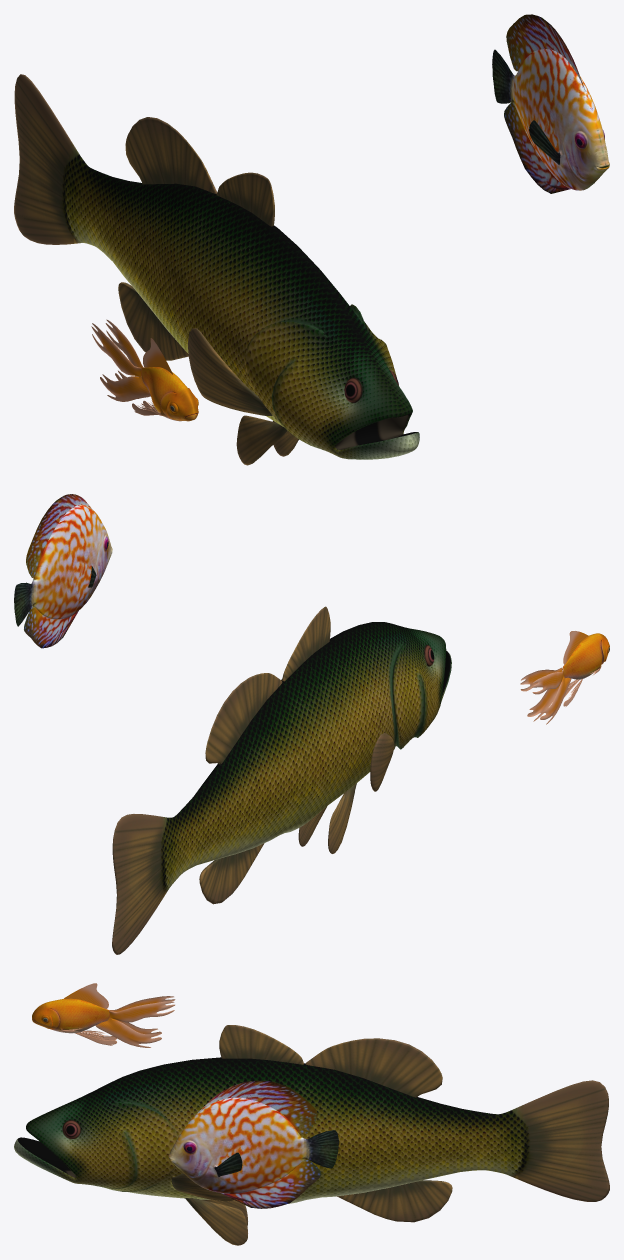
File: 3 peses.fbx
3 renders of one model, top to bottom at view 1: azimuth 30°, elevation 25°; view 2: azimuth 150°, elevation 25°; view 3: azimuth 270°, elevation 25°, orthographic. The views are drawn at different scales.
Parts seen in each view (by area): view 1: fish_2, fish_1, fish_3; view 2: fish_2, fish_1, fish_3; view 3: fish_2, fish_1, fish_3.
Boxes of the visible parts, x1,y1,x2,y2 form: fish_2: (14, 74, 419, 465); fish_1: (492, 14, 609, 193); fish_3: (91, 319, 198, 421); fish_2: (112, 606, 451, 954); fish_1: (14, 494, 112, 648); fish_3: (520, 631, 609, 724); fish_2: (14, 1025, 609, 1245); fish_1: (168, 1080, 338, 1208); fish_3: (32, 983, 175, 1047).
Size of the model in its own units: 393 by 245 by 495.
